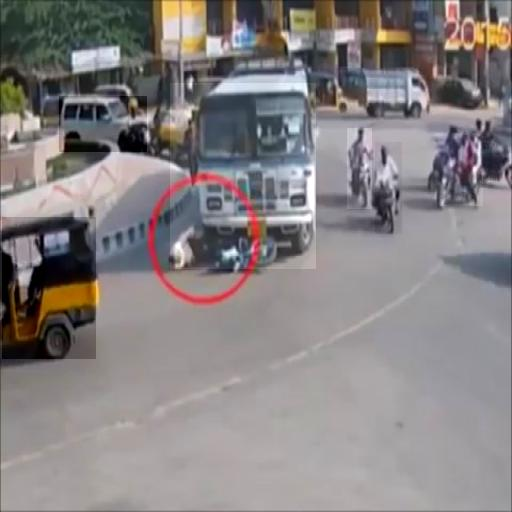小汽车: (2, 217, 96, 359), (59, 96, 147, 152)
小汽车撞自行车: (170, 83, 316, 269)
自行车: (436, 133, 484, 206), (375, 142, 402, 234), (347, 128, 372, 209)
